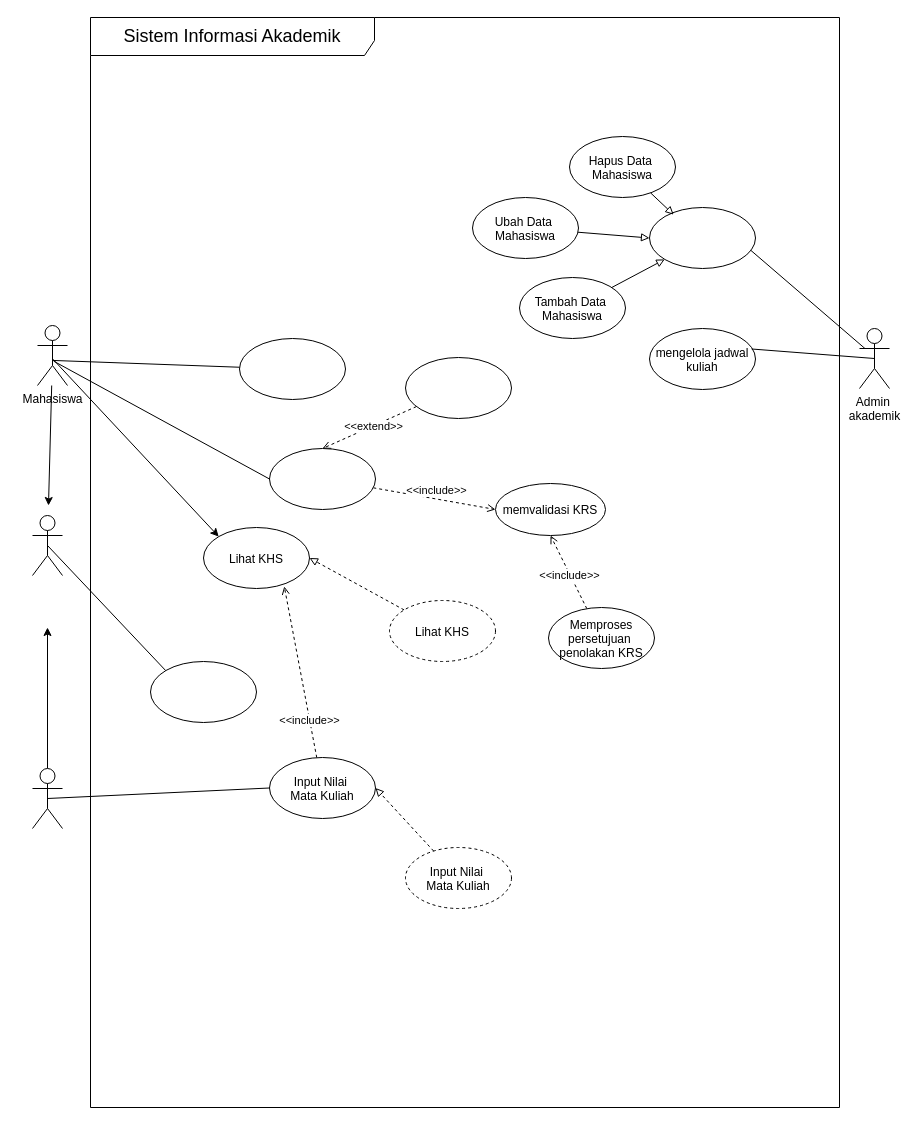
This 917x1125 diagram has some shape labels left out. Here are the shapes that lost their labels. From the top down, the centre of each, then its label:
At pixel 702 237: "Kelola Data Mahasiswa".
At pixel 292 369: "Melihat jadwal kuliah".
At pixel 458 387: "mengunduh bukti pengajuan".
At pixel 322 479: "mengajukan KRS".
At pixel 47 545: "Civitas Akademika".
At pixel 203 691: "Lihat kalender akademik".
At pixel 47 798: "Dosen Wali".
